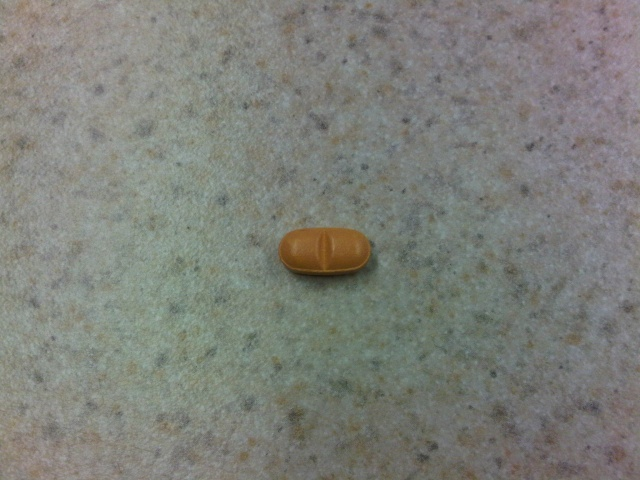|: (314, 229, 337, 273)
